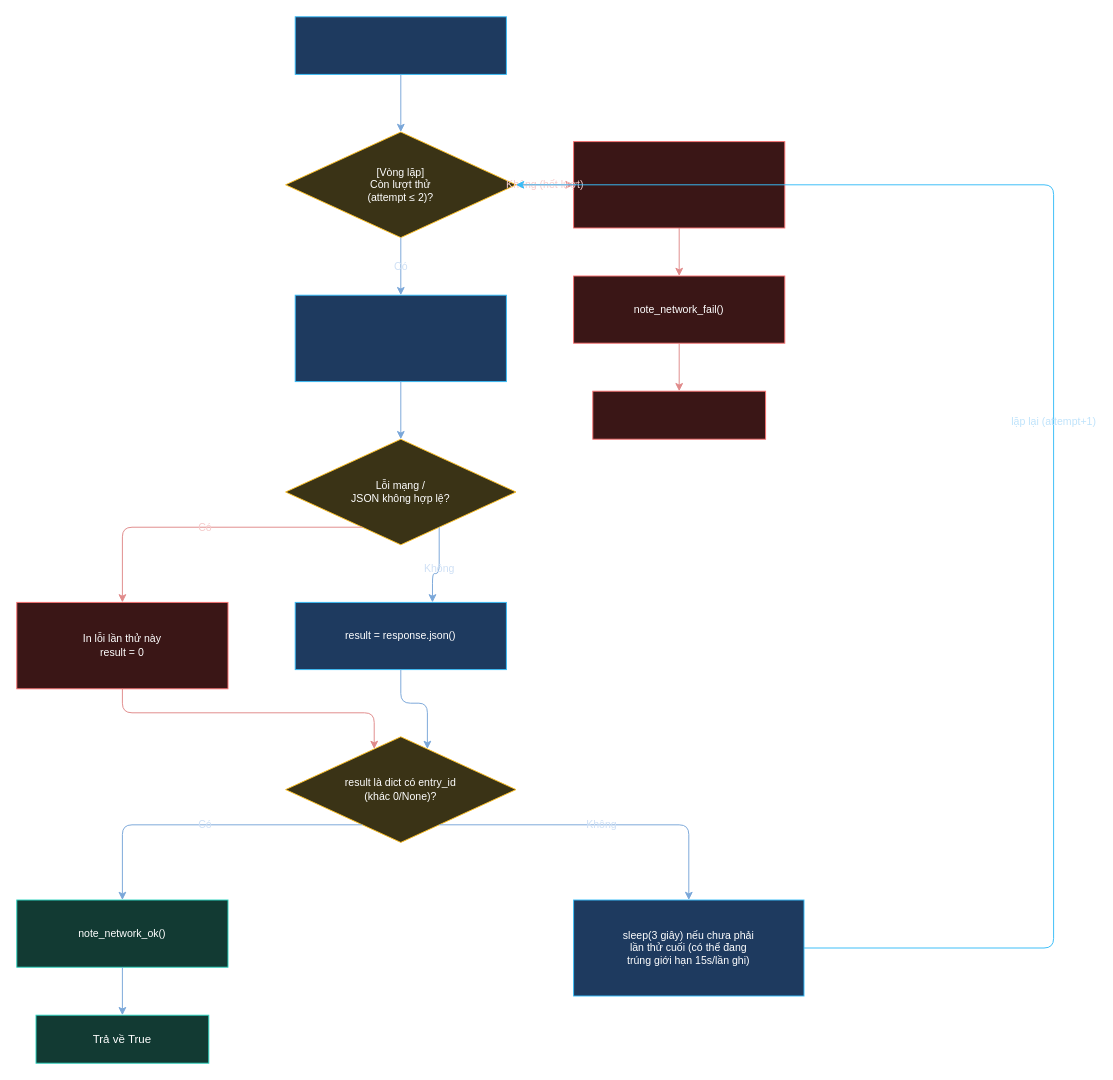
Image size: 1113x1080. Some labels were removed from this diagram. The shapes that lost their labels are listed below. From the top down, each one's centre as x and y in pixels, then its label:
the point at 400,45: Bắt đầu (attempt = 0, 1, 2)
the point at 679,184: In: gửi thất bại sau nhiều lần thử
the point at 400,338: POST update.json {api_key, ...fields}
the point at 679,414: Trả về False
